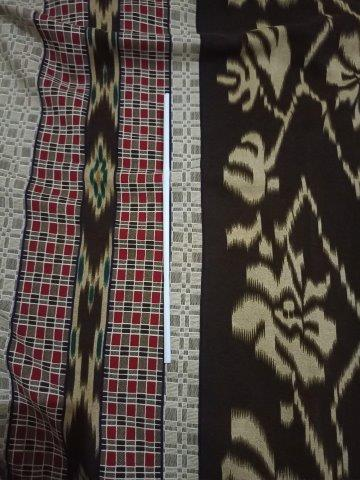sedotan: (162, 93, 170, 363)
